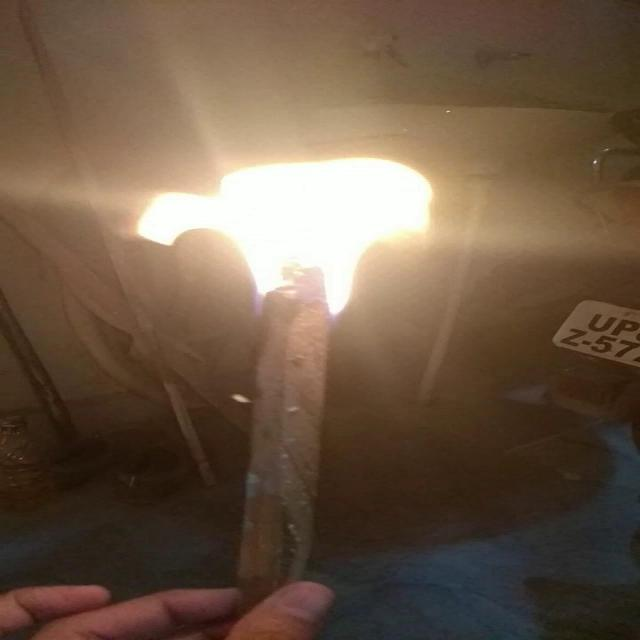fire: (121, 153, 443, 315)
